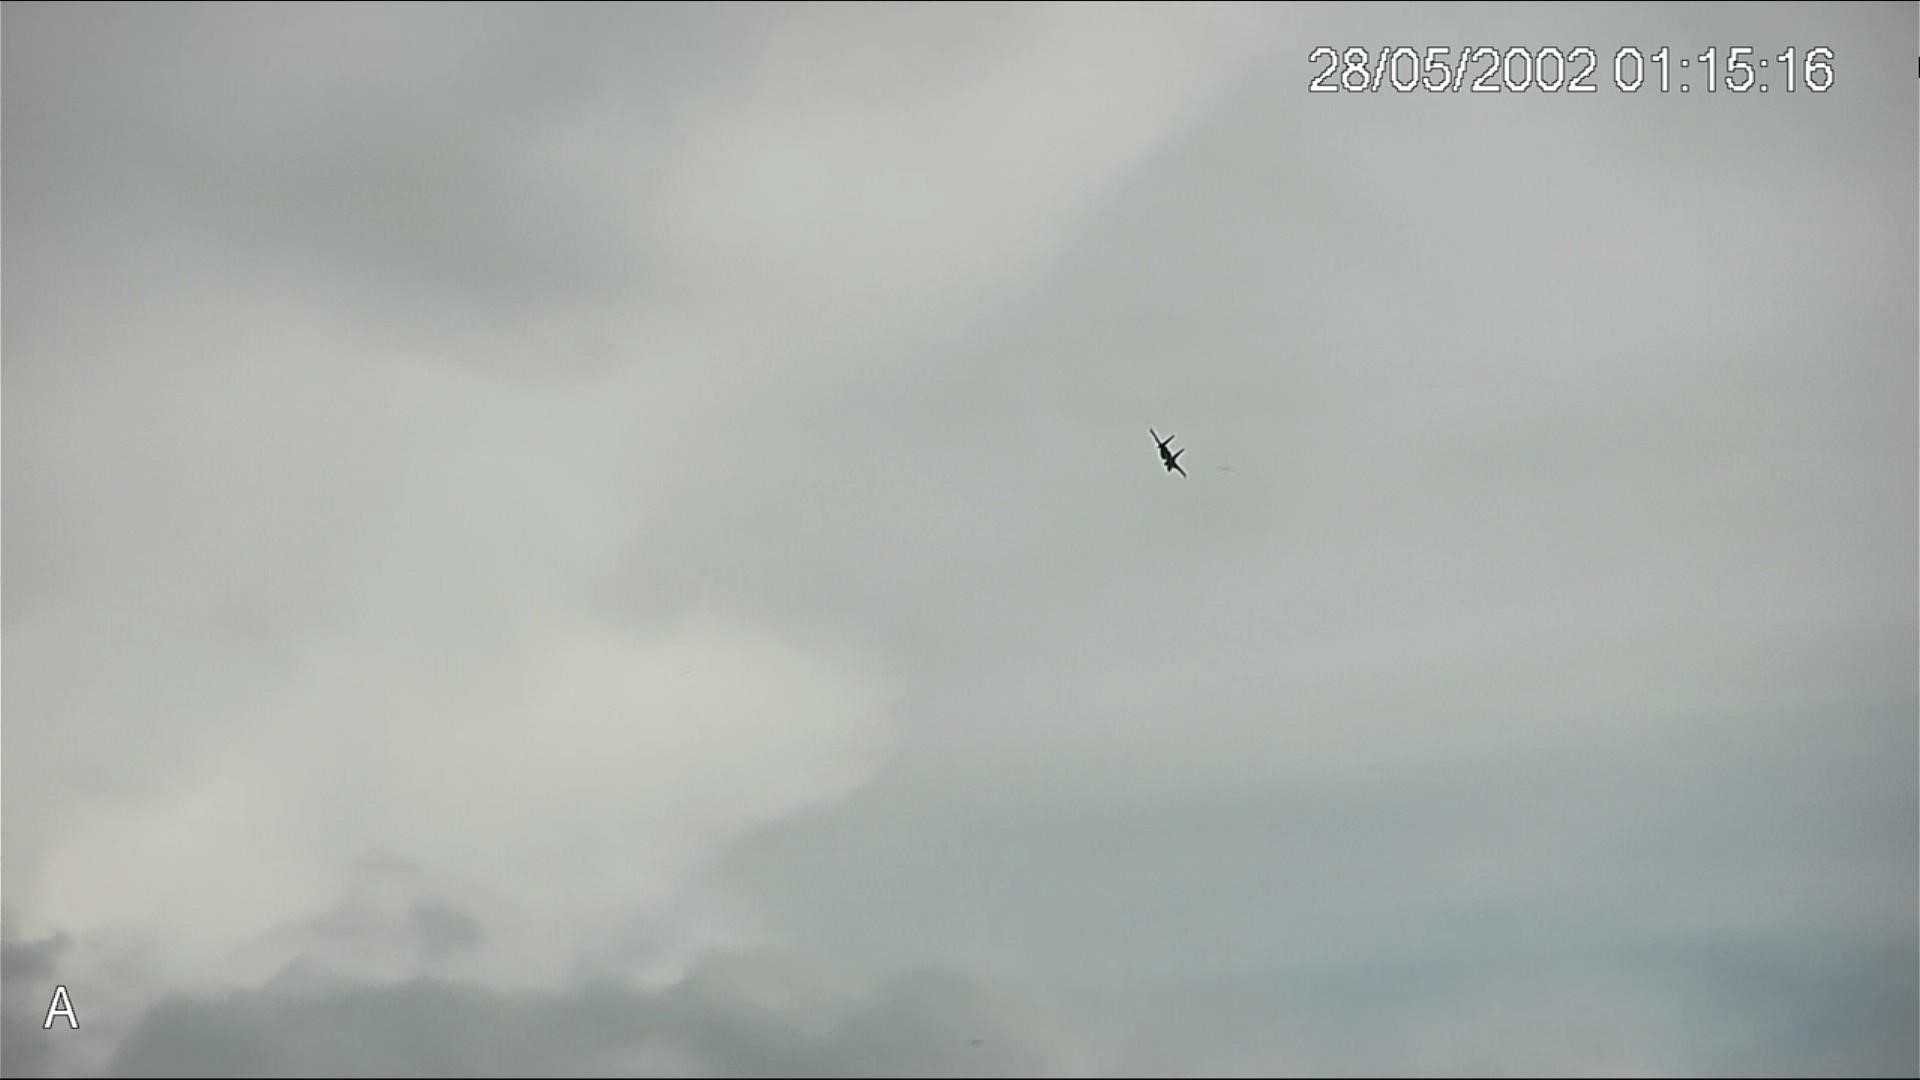SU_30: (1149, 426, 1188, 481)
